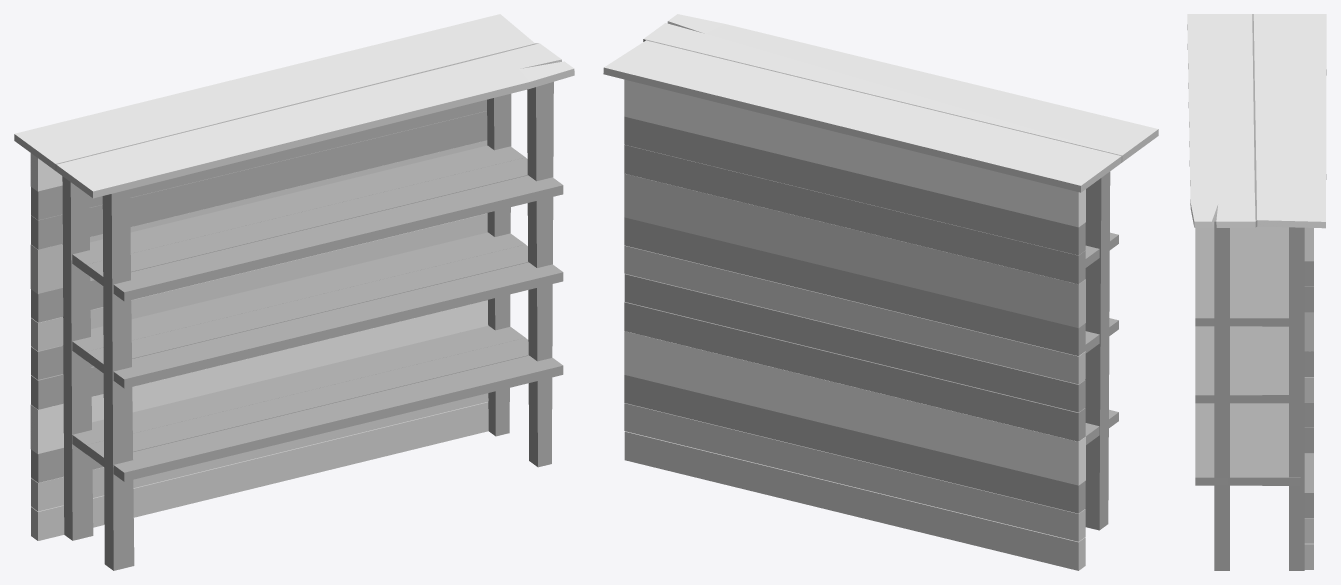
Rendered from PT_Shelf_02.fbx.
3 views of the same model, side by side, from view 1: azimuth 30°, elevation 25°; view 2: azimuth 150°, elevation 25°; view 3: azimuth 270°, elevation 25° (orthographic). The views are drawn at different scales.
Visible parts, largest first — view 1: PT_Shelf_02; view 2: PT_Shelf_02; view 3: PT_Shelf_02.
Part boxes in pixels (x1,y1,x2,y2): PT_Shelf_02: (14,14,574,570); PT_Shelf_02: (603,14,1158,570); PT_Shelf_02: (1187,14,1326,570).
Size of the model in its own units: 348 by 274 by 97.82.
1 material, 1 textured.
